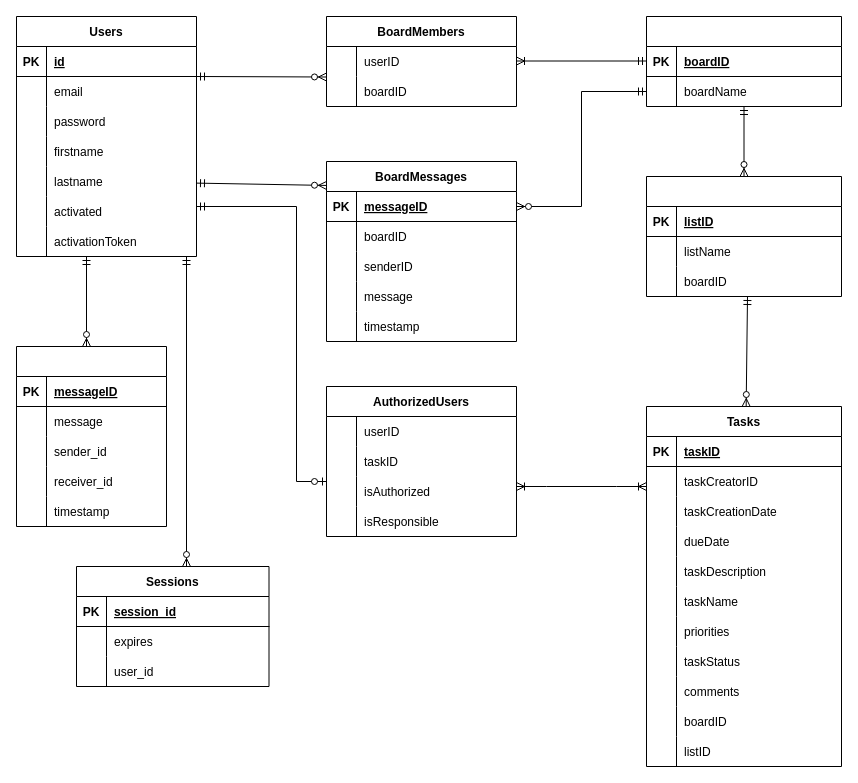
Image size: 858x783. Some labels were removed from this diagram. The box of each missing label's shape, as (x1, y1, x2, y2) in pixels:
Boards: (646, 16, 842, 106)
Lists: (646, 176, 842, 296)
P2PMessages: (16, 346, 166, 526)
